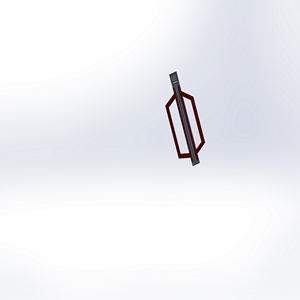submarine: (146, 63, 226, 186)
